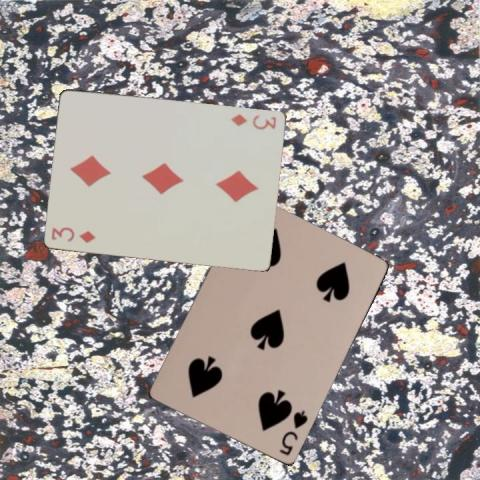3d: (229, 110, 278, 130), (49, 224, 97, 244)
5s: (277, 407, 309, 458)
